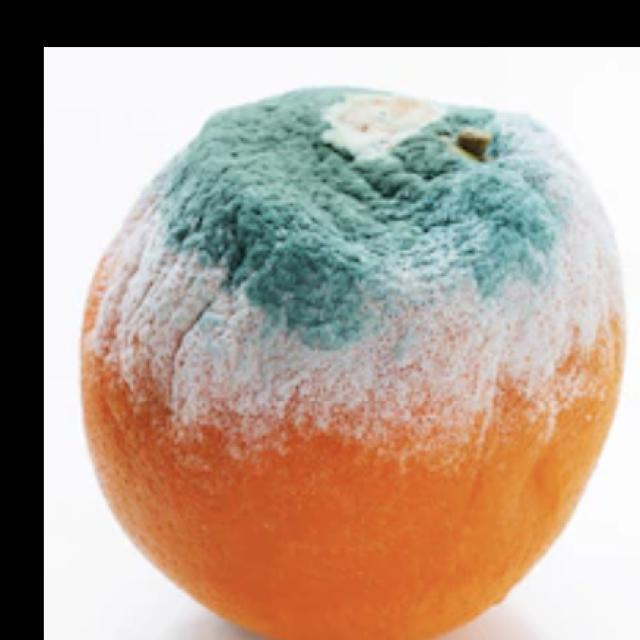sangat-busuk: (81, 90, 622, 639)
